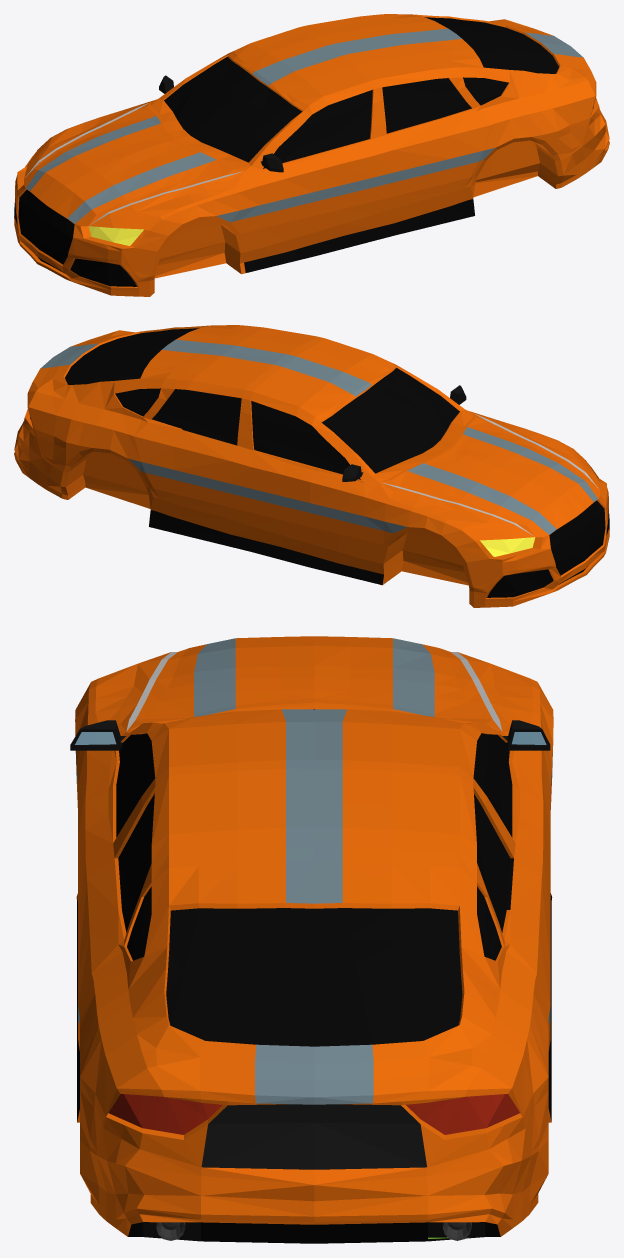
File: Oddi.glb
3 views of the same model, one above another, from view 1: azimuth 30°, elevation 25°; view 2: azimuth 150°, elevation 25°; view 3: azimuth 270°, elevation 25° (orthographic). The views are drawn at different scales.
Visible parts, largest first — view 1: audi_black, audi_window, audi.001, audi_fllight; view 2: audi_black, audi_window, audi.001, audi_frlight; view 3: audi_black, audi_window, audi_rllight, audi_rrlight, audi.001.
Boxes of the visible parts, bbox=[...] form: audi_black: bbox=[14, 14, 609, 296]; audi_window: bbox=[164, 17, 558, 168]; audi.001: bbox=[14, 190, 136, 286]; audi_fllight: bbox=[88, 226, 143, 245]; audi_black: bbox=[14, 325, 609, 607]; audi_window: bbox=[65, 328, 459, 479]; audi.001: bbox=[487, 501, 609, 597]; audi_frlight: bbox=[480, 537, 535, 556]; audi_black: bbox=[70, 636, 553, 1243]; audi_window: bbox=[116, 709, 512, 1046]; audi_rllight: bbox=[108, 1094, 222, 1134]; audi_rrlight: bbox=[406, 1094, 519, 1134]; audi.001: bbox=[156, 1222, 471, 1240].
Size of the model in its own units: 4.16 by 1.06 by 1.6.
Materials: 1 (1 with a texture image).
